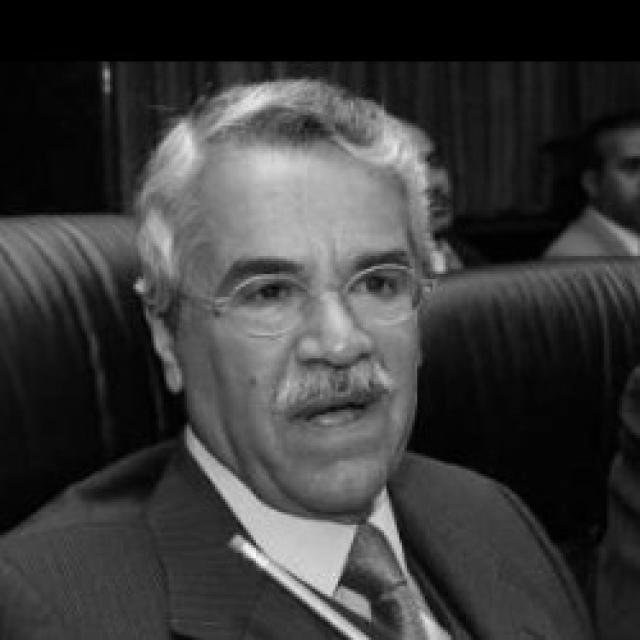real: (169, 140, 422, 520), (215, 245, 405, 326)
